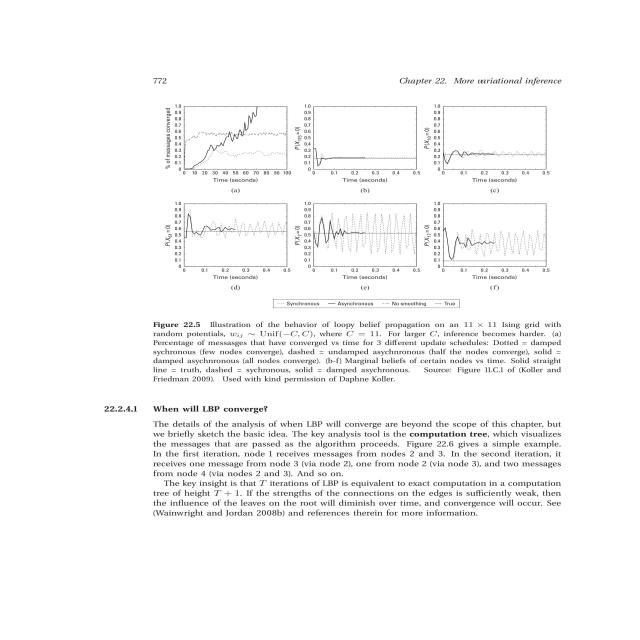diagram: (113, 100, 640, 377)
